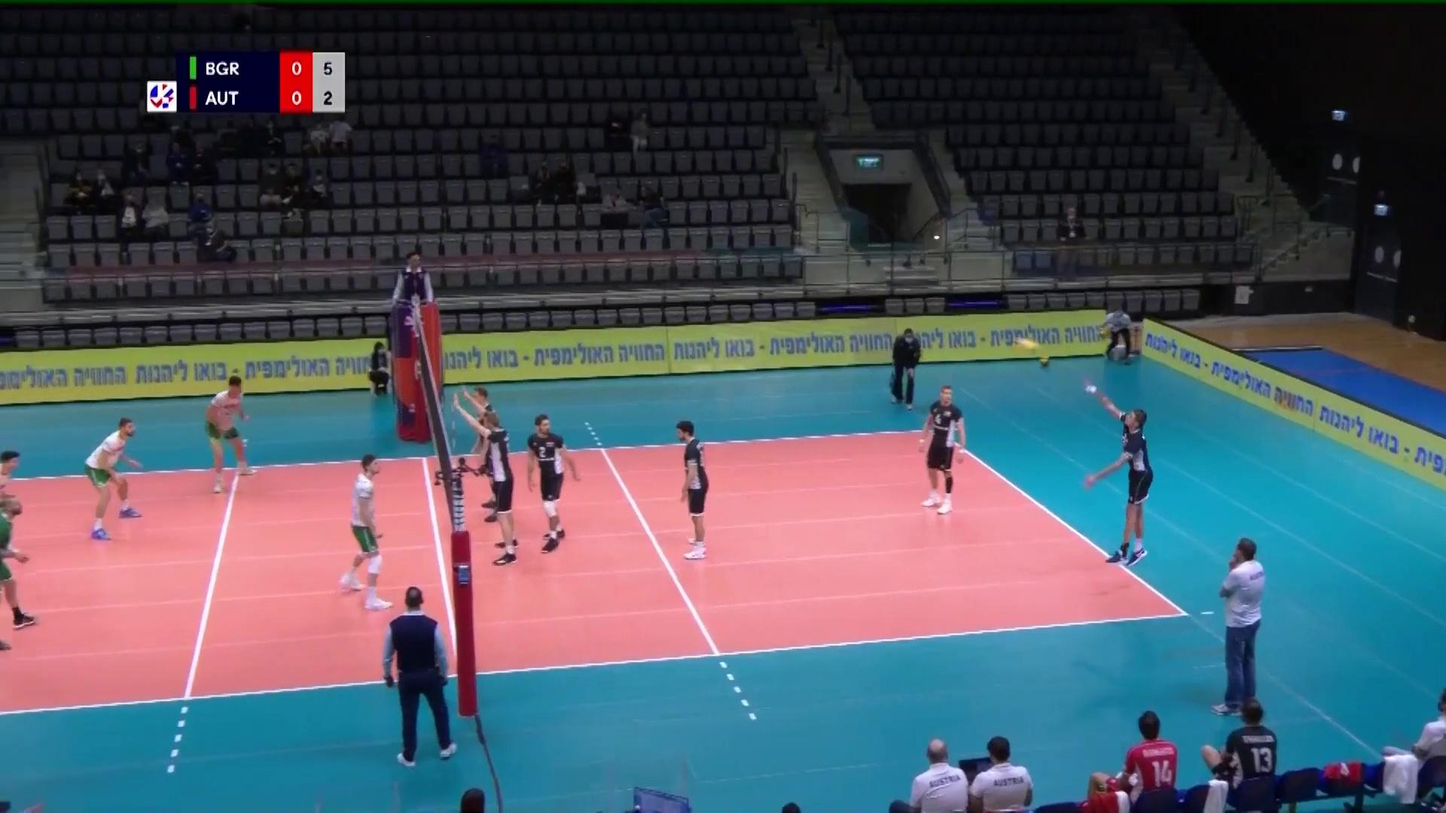ball: (1018, 336, 1040, 354)
